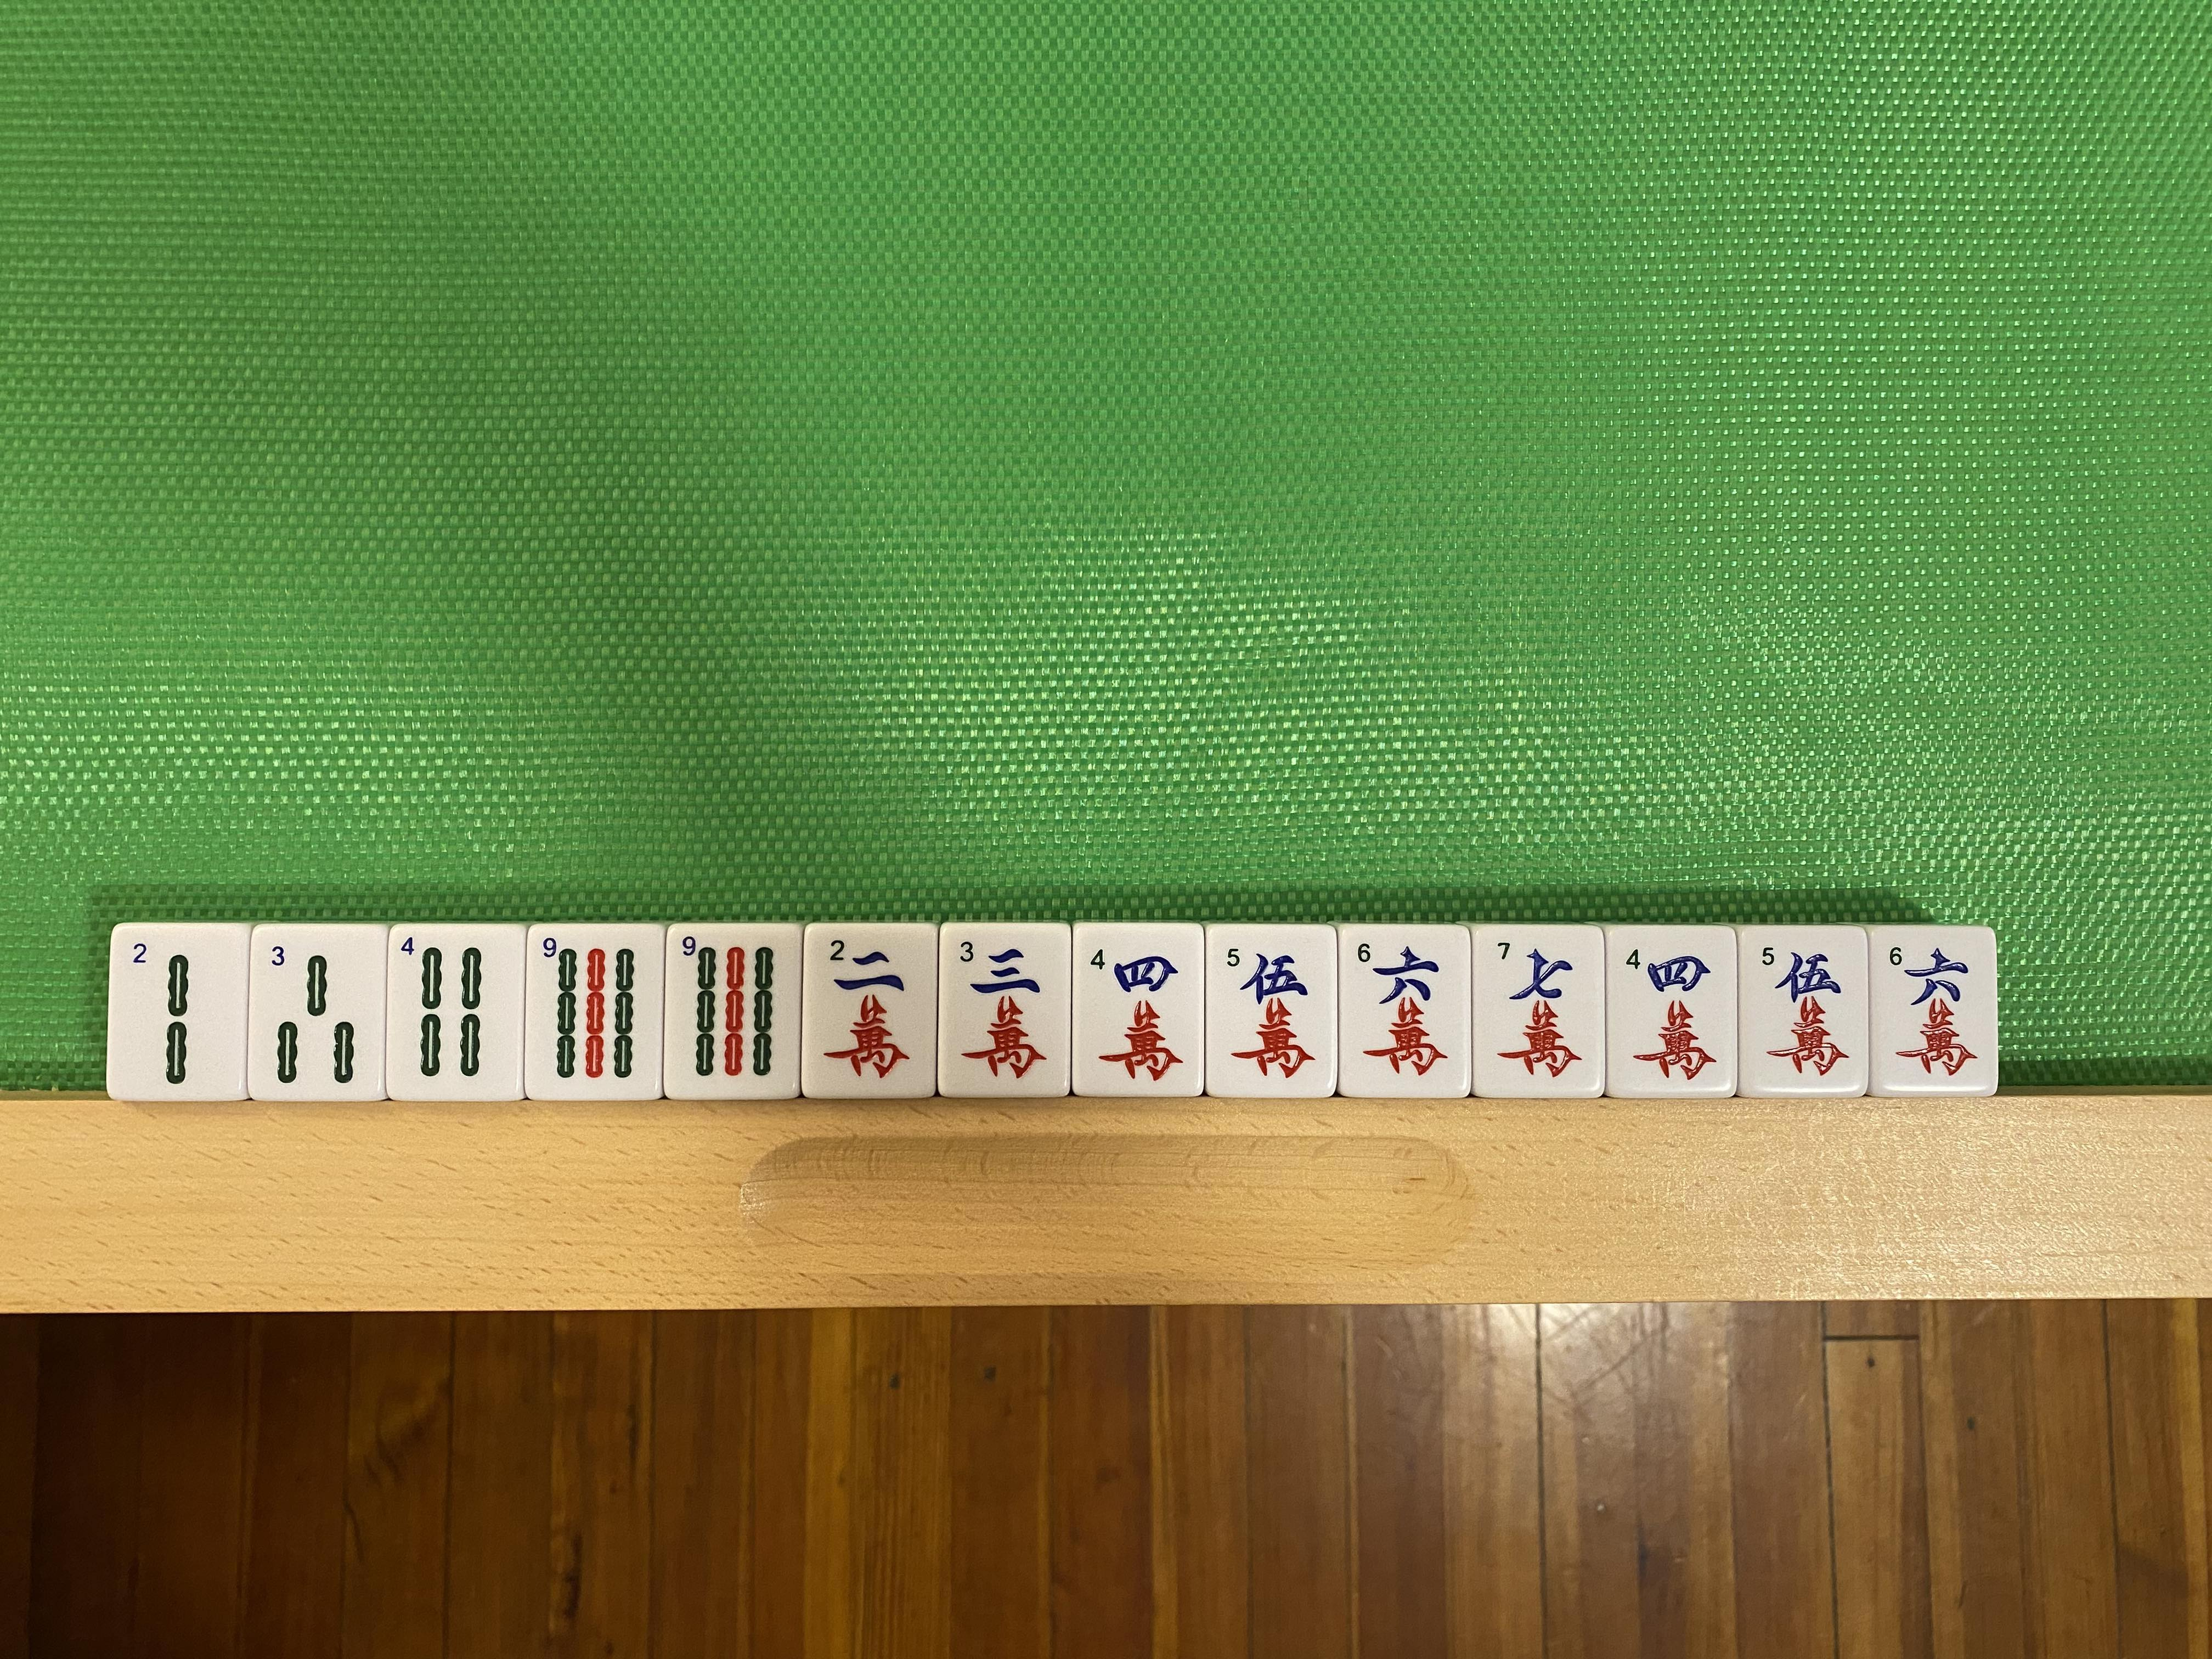bamboo-four: (390, 927, 521, 1098)
bamboo-nine: (665, 925, 798, 1096), (529, 925, 658, 1098)
bamboo-three: (249, 924, 383, 1101)
bamboo-two: (115, 924, 244, 1100)
character-five: (1205, 927, 1338, 1096), (1740, 929, 1869, 1093)
character-four: (1608, 929, 1738, 1098), (1078, 924, 1204, 1093)
character-seven: (1474, 924, 1606, 1096)
character-six: (1339, 927, 1468, 1098), (1871, 927, 1998, 1094)
character-three: (941, 924, 1069, 1093)
character-two: (803, 925, 935, 1096)
